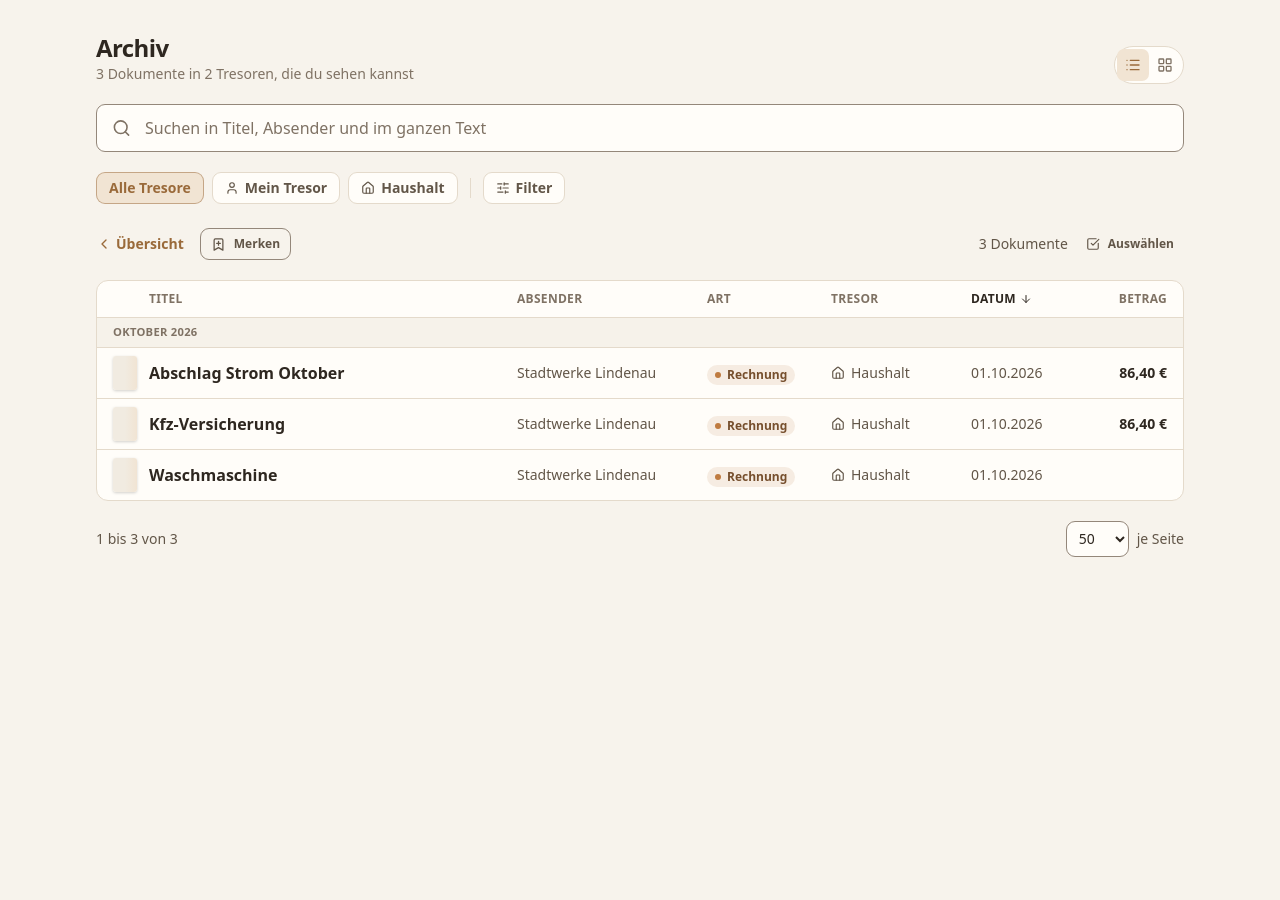
Test case: Auswählen › names every reason when there are several
Click the button "Auswählen".
click(1130, 244)  # box x1=1076 y1=228 x2=1184 y2=260
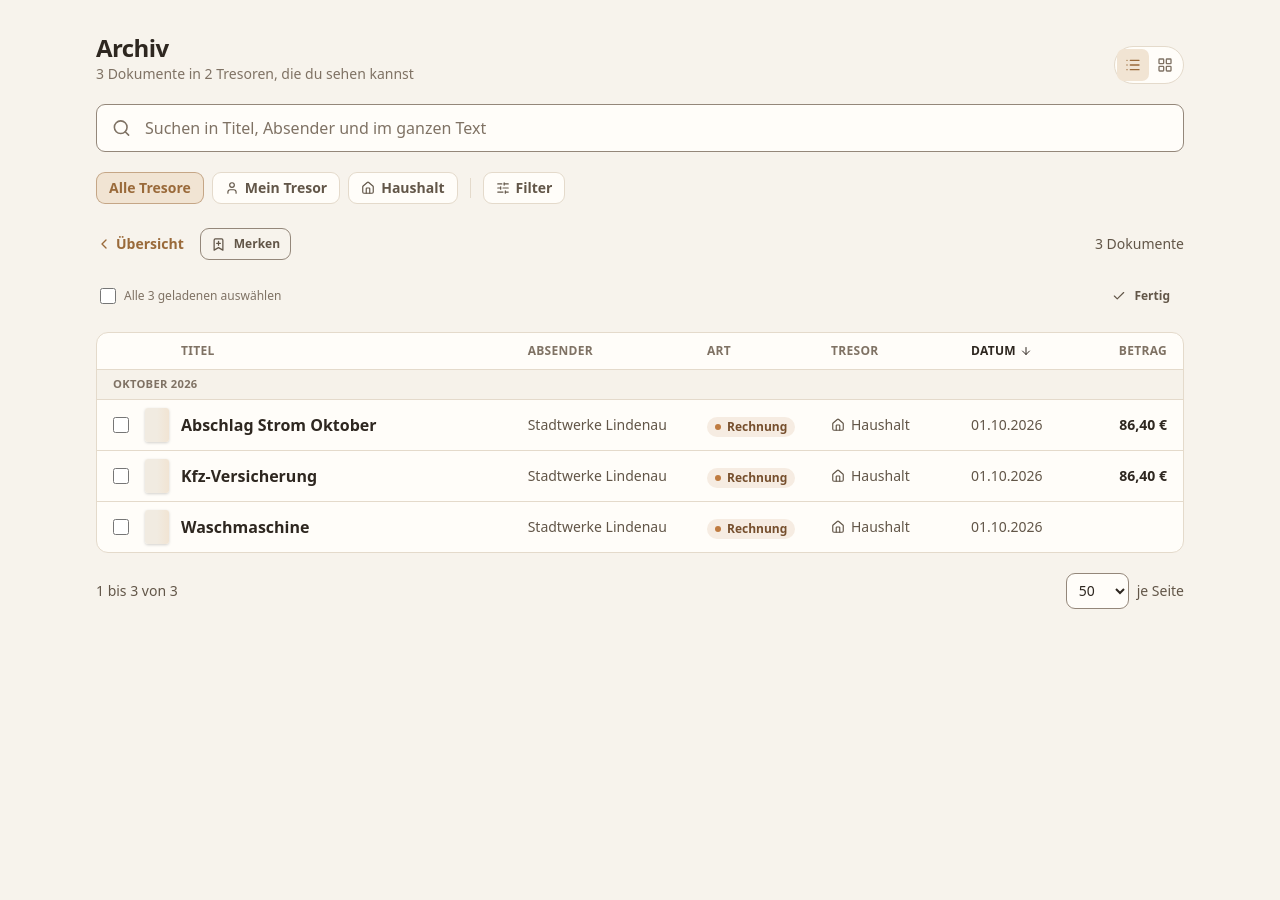
Click the checkbox named "Alle 3 geladenen auswählen".
click(108, 296)  # box x1=100 y1=288 x2=116 y2=304
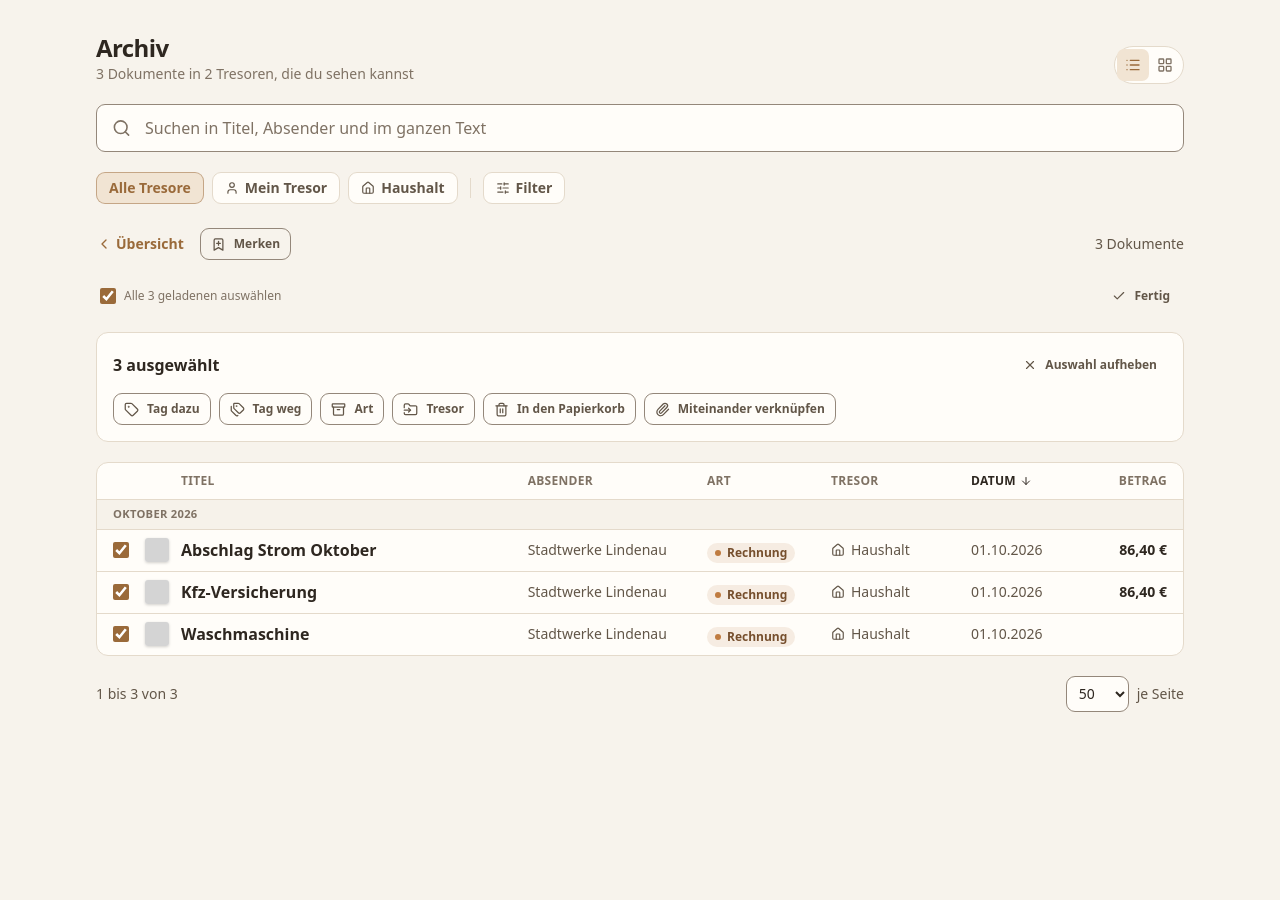
Now the button "Art" is shown
Click the button "Art".
click(352, 409)  # box x1=320 y1=393 x2=384 y2=425
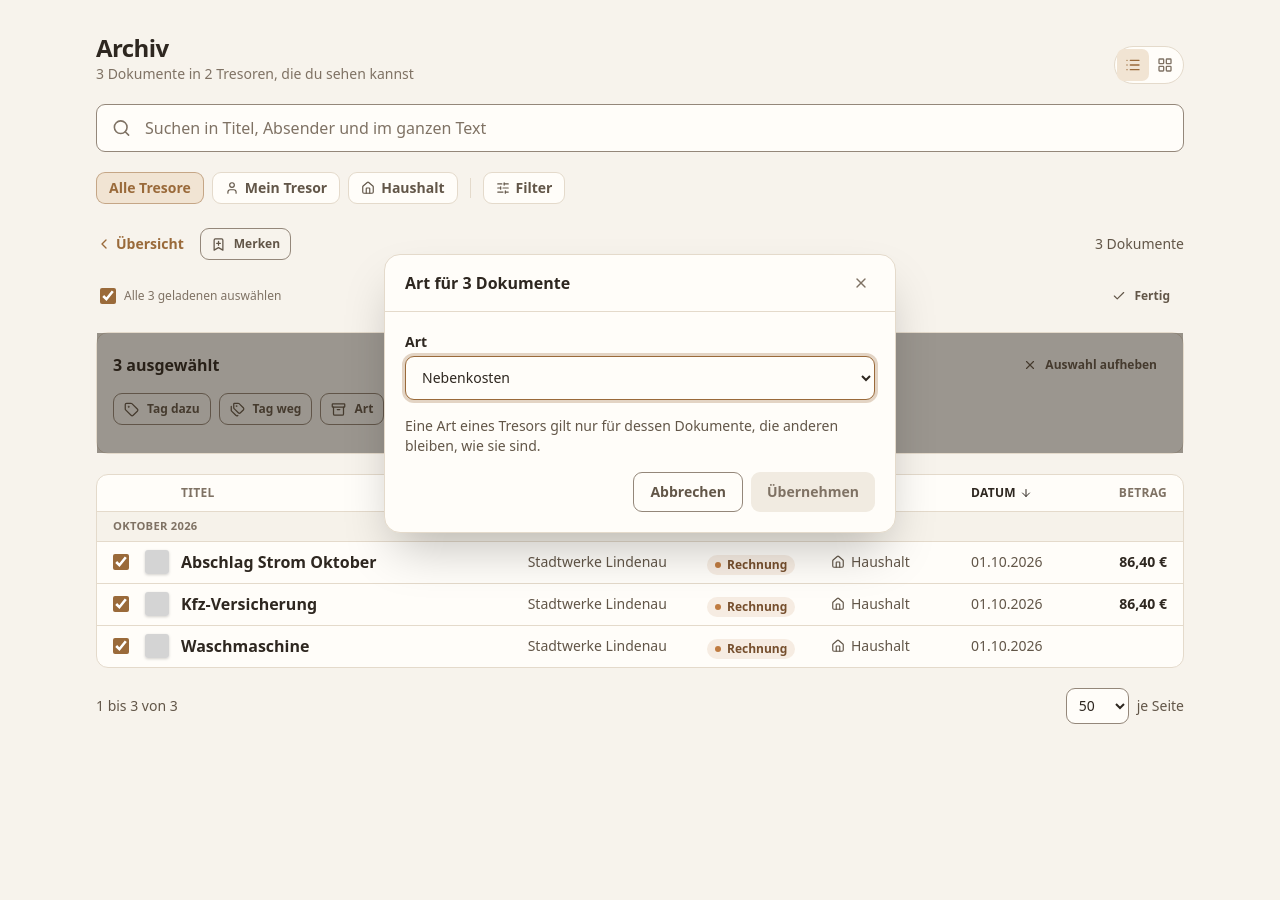
Select "Nebenkosten" in the dropdown labelled "Art" at coordinates (640, 378), box x1=405 y1=356 x2=875 y2=400
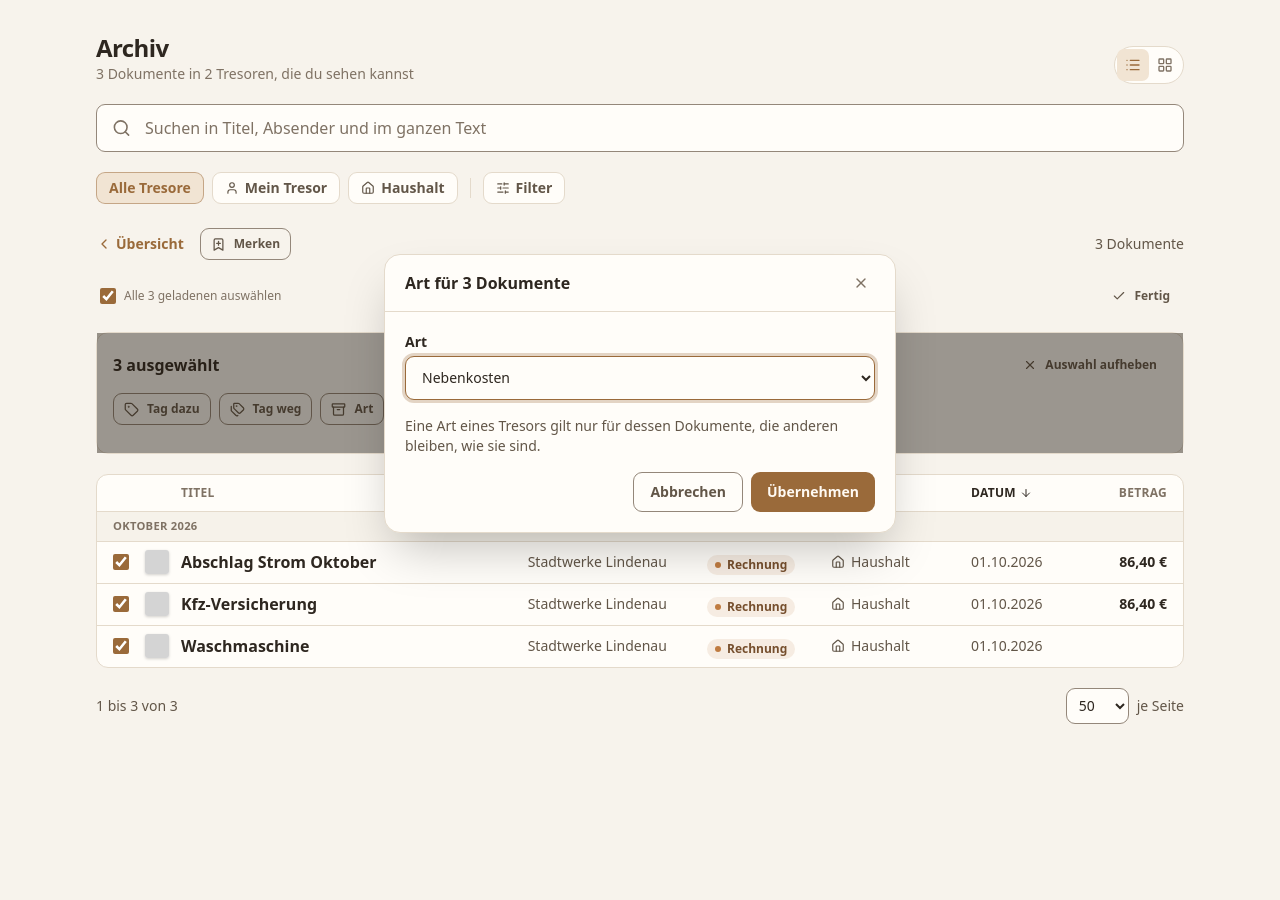
Now the button "Übernehmen" is shown
Click the button "Übernehmen".
click(813, 492)  # box x1=751 y1=472 x2=875 y2=512
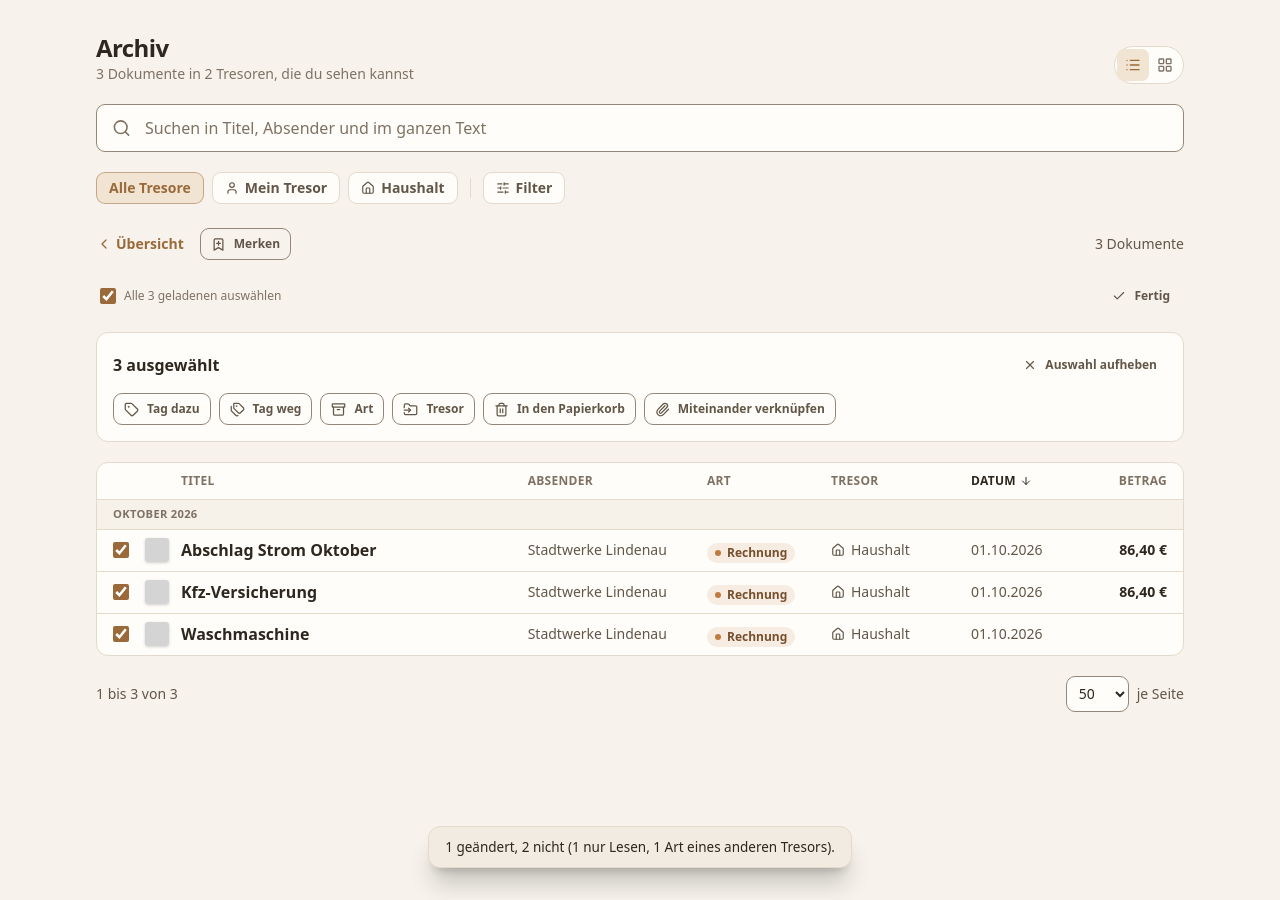
Now the text "1 geändert, 2 nicht (1 nur Lesen, 1 Art eines anderen Tresors)." is shown, box x1=428 y1=826 x2=852 y2=868
